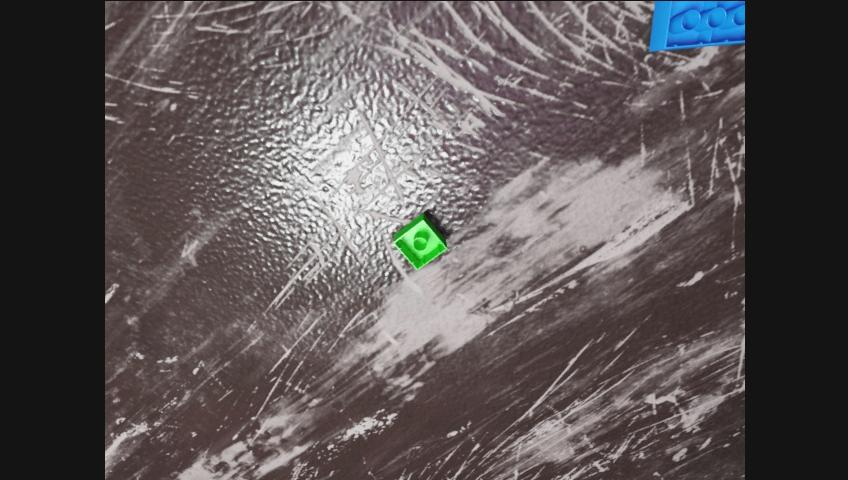2x2_green: (393, 213, 447, 270)
4x2_blue: (649, 0, 744, 52)
